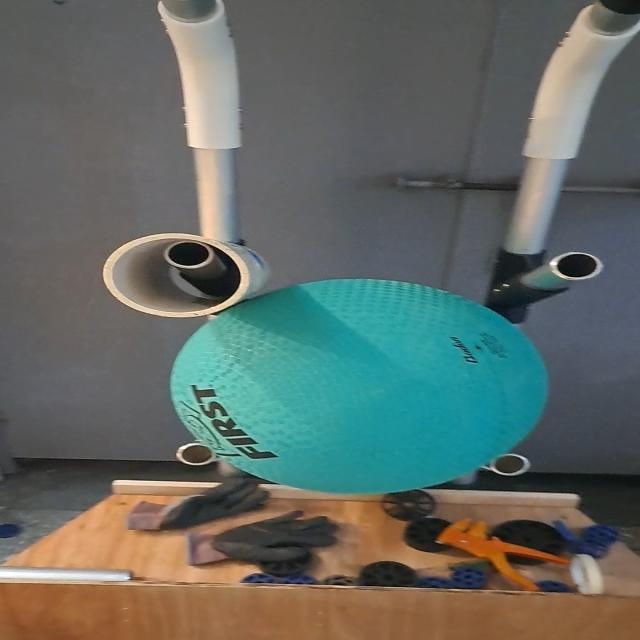ALGAE: (171, 275, 552, 497)
CORAL: (98, 226, 275, 322)
